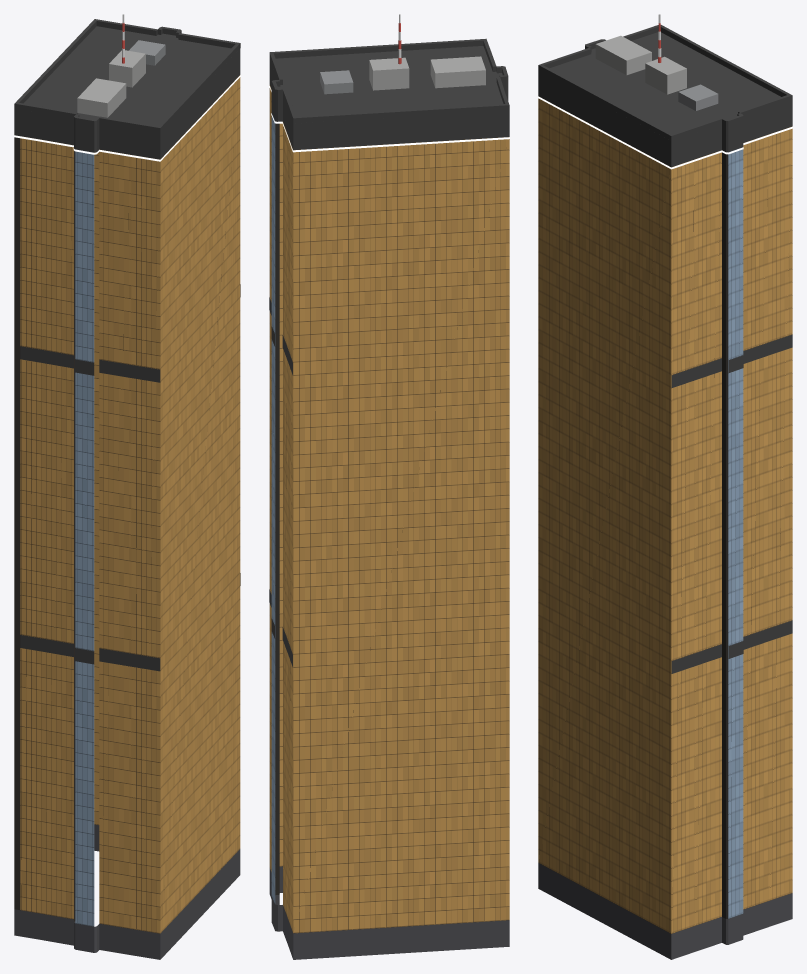
File: 63-building.glb
3 renders of one model, left to right at view 1: azimuth 30°, elevation 25°; view 2: azimuth 150°, elevation 25°; view 3: azimuth 270°, elevation 25°, orthographic. The views are drawn at different scales.
Visible parts, largest first — view 1: tower_body, roof, tower_lobby, tower_crown, bands, roof_box_0, roof_box_1, parapet_2, parapet_12, crown_glow, roof_box_2; view 2: tower_body, roof, tower_lobby, tower_crown, parapet_12, roof_box_0, parapet_2, roof_box_1, roof_box_2, crown_glow, bands; view 3: tower_body, roof, tower_crown, tower_lobby, bands, roof_box_0, roof_box_1, parapet_2, parapet_12, roof_box_2, crown_glow.
Boxes of the visible parts, x1,y1,x2,y2 form: tower_body: (14,75,240,933); roof: (23,26,231,125); tower_lobby: (14,824,240,959); tower_crown: (14,49,240,159); bands: (20,284,240,671); roof_box_0: (77,78,126,117); roof_box_1: (109,50,145,87); parapet_2: (158,42,239,132); parapet_12: (15,20,96,103); crown_glow: (14,74,240,161); roof_box_2: (129,40,165,65); tower_body: (269,85,509,933); roof: (276,46,503,116); tower_lobby: (269,866,509,959); tower_crown: (269,58,509,150); parapet_12: (293,103,509,123); roof_box_0: (430,56,485,88); parapet_2: (269,39,486,58); roof_box_1: (369,57,409,90); roof_box_2: (320,70,353,94); crown_glow: (269,84,509,152); bands: (269,297,292,667); tower_body: (538,97,792,933); roof: (550,32,780,133); tower_crown: (538,70,792,167); tower_lobby: (538,863,792,959); bands: (671,334,792,673); roof_box_0: (595,35,651,75); roof_box_1: (645,56,686,94); parapet_2: (538,64,674,140); parapet_12: (658,25,792,100); roof_box_2: (678,84,718,110); crown_glow: (538,96,792,169).
Size of the model in its own units: 74.12 by 273 by 71.11.
Materials: 10 (2 with a texture image).
